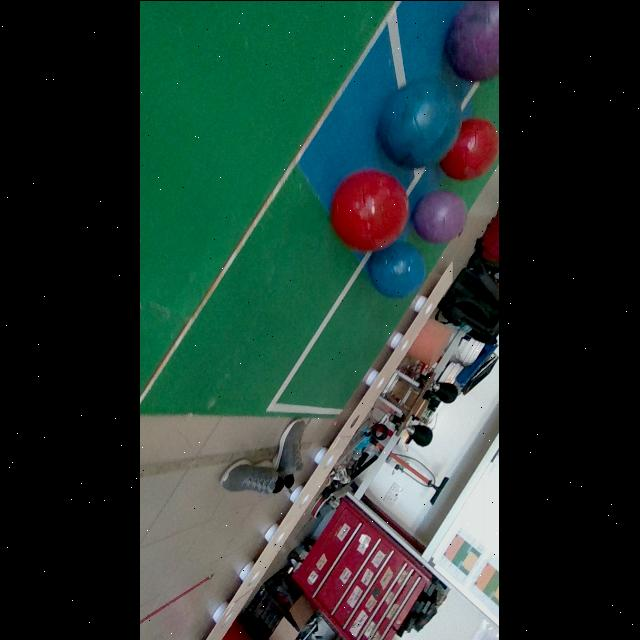B: (379, 79, 462, 167), (367, 240, 427, 296)
P: (448, 0, 500, 81), (414, 190, 468, 242)
R: (332, 168, 410, 250), (442, 116, 500, 179)
